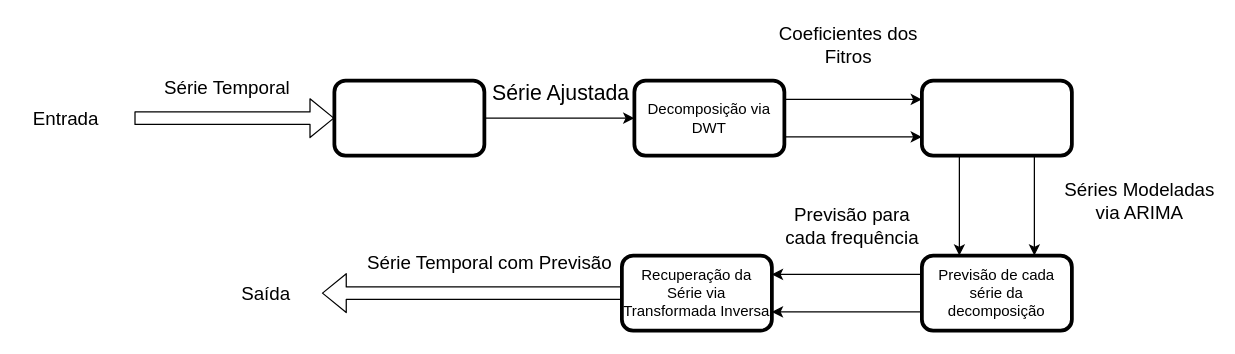
The diagram is 1235 pixels wide and 354 high, and some of its shapes have lost their labels. Here are the shapes that lost their labels. From the top down, the box of each, then its label:
(332, 78, 486, 157): Pré-Processamento
(919, 78, 1073, 157): Modelagem ARIMA
